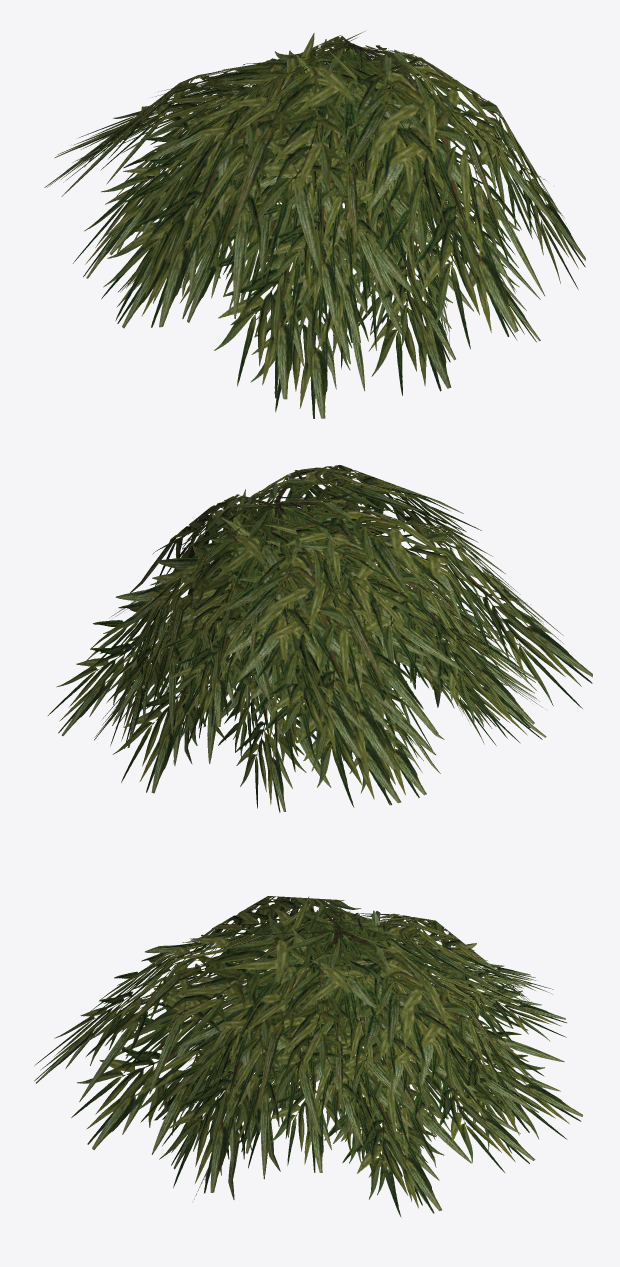
Rendered from blad.obj.
3 renders of one model, top to bottom at view 1: azimuth 30°, elevation 25°; view 2: azimuth 150°, elevation 25°; view 3: azimuth 270°, elevation 25°, orthographic. The views are drawn at different scales.
Visible parts, largest first — view 1: blad; view 2: blad; view 3: blad.
Boxes of the visible parts, bbox=[...] form: blad: bbox=[44, 30, 585, 418]; blad: bbox=[48, 465, 592, 812]; blad: bbox=[34, 896, 582, 1217].
Size of the model in its own units: 203 by 131 by 213.
1 material, 1 textured.
